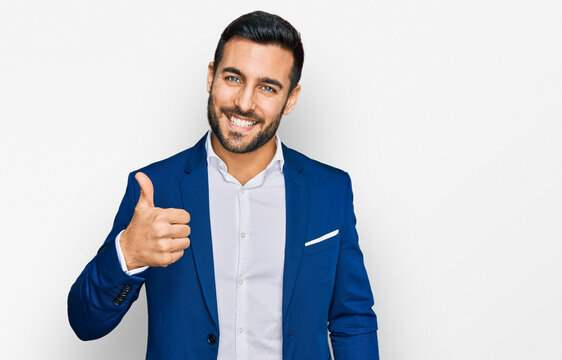ThumbUp: (129, 171, 193, 268)
